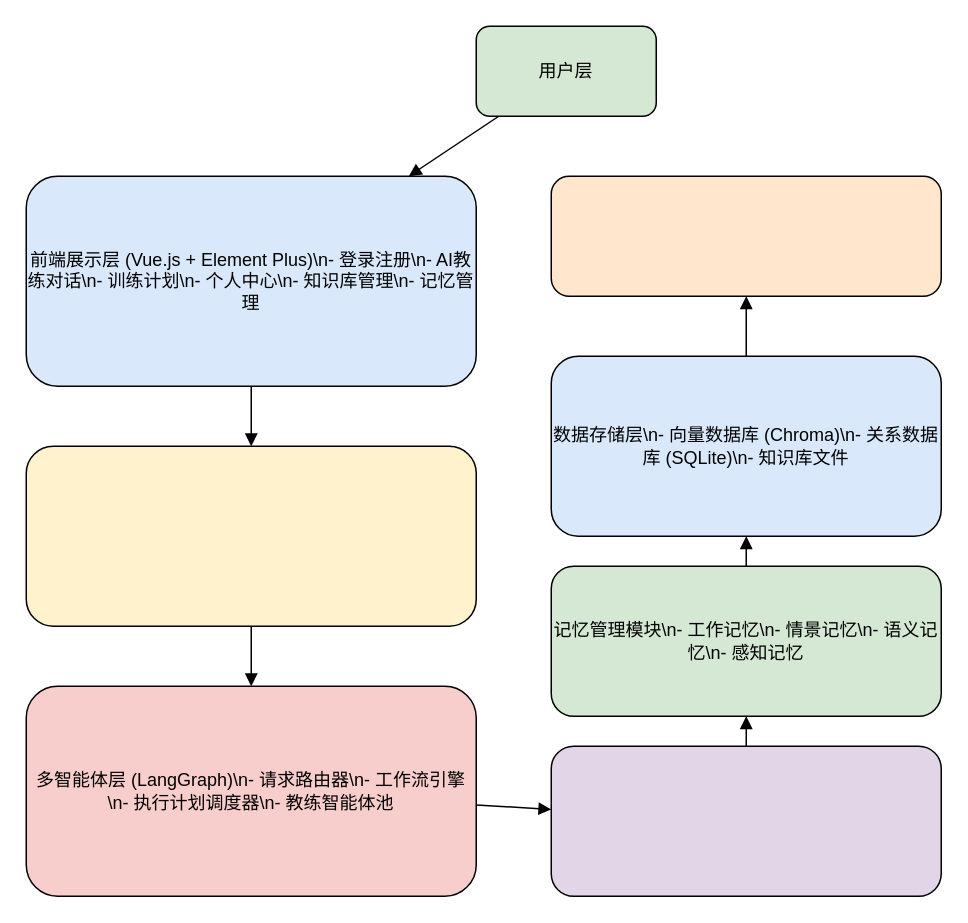
Some shapes in this 968 by 923 pixel diagram are drawn without their labels. Here are the shapes that lost their labels. From the top down, the box of each, then its label:
(550, 175, 941, 296): 模型服务层\n- 大语言模型\n- 嵌入模型
(25, 445, 476, 626): 后端服务层 (FastAPI)\n- 认证服务\n- API网关\n- 聊天服务\n- 知识库服务\n- 记忆服务
(550, 745, 941, 896): RAG检索系统\n- 高级检索器\n- 文档处理器\n- 向量存储服务
